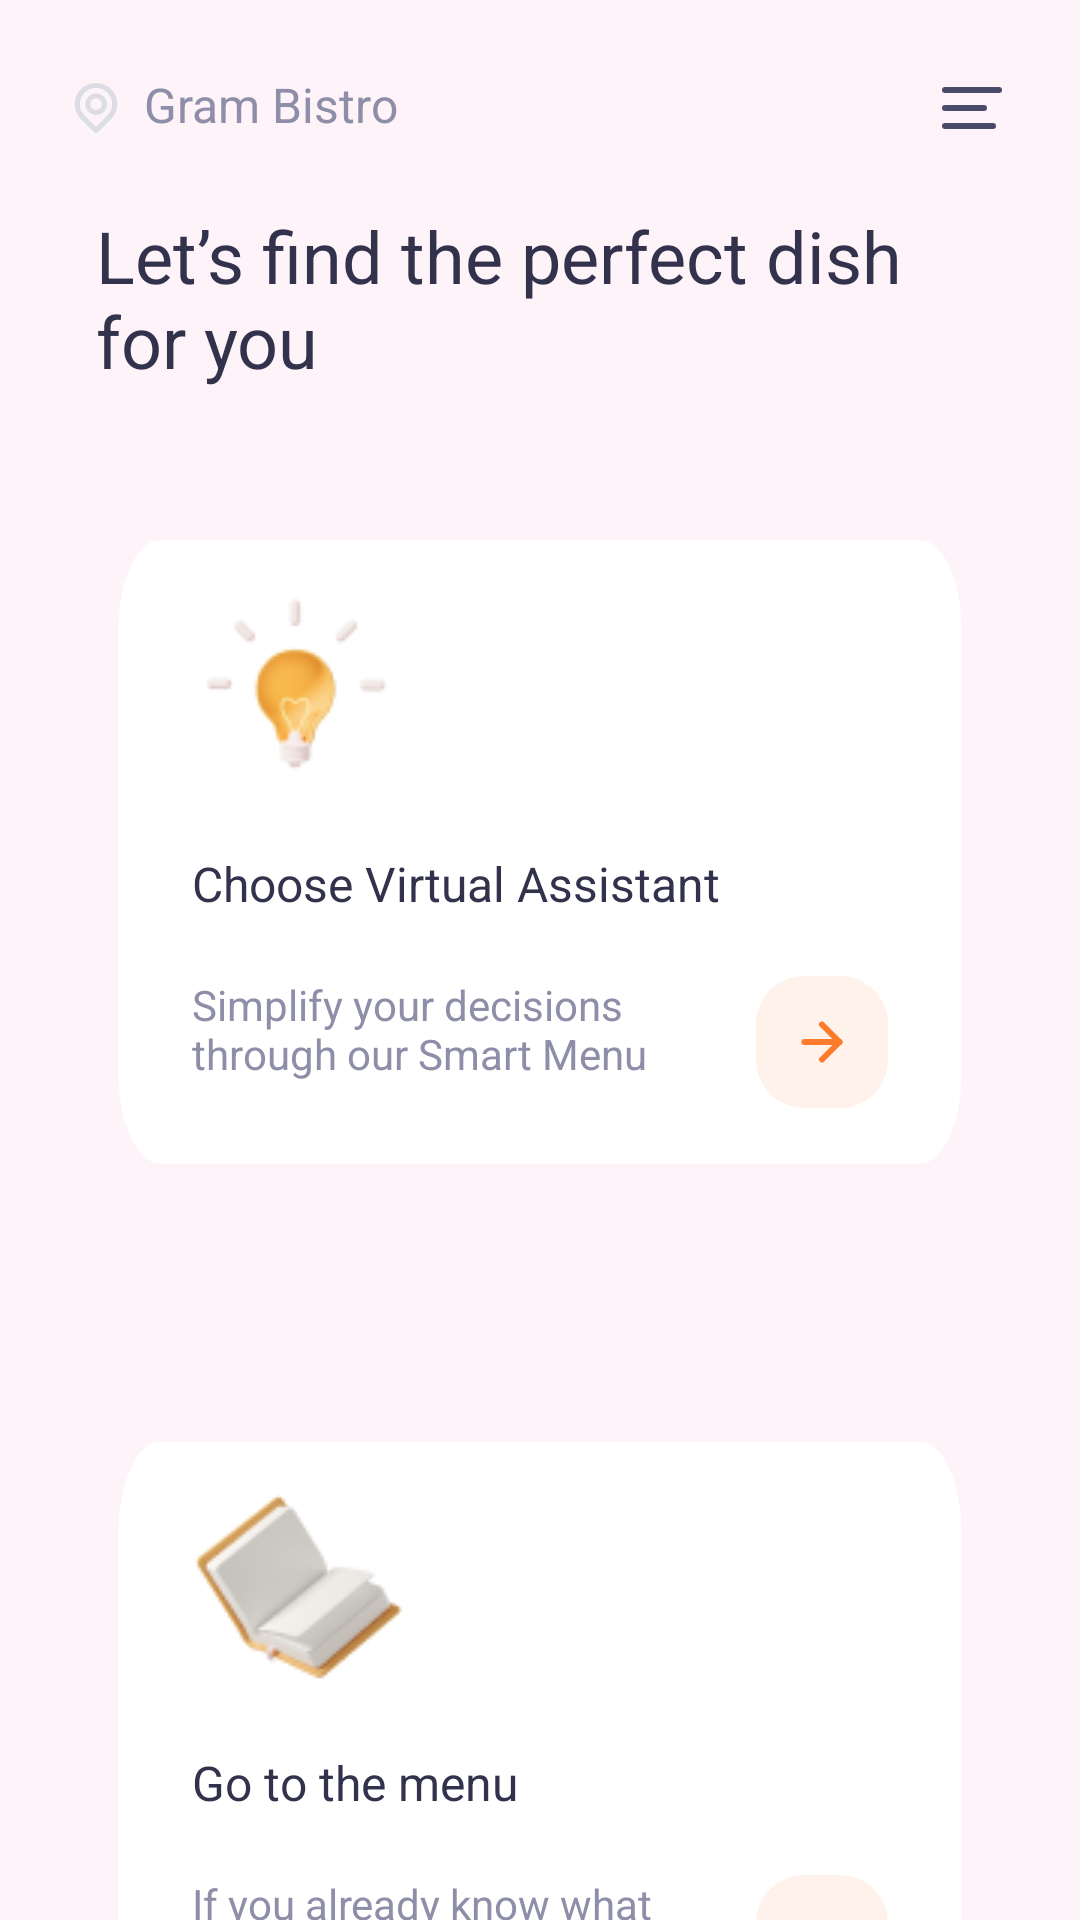

Icon click points for this 1080x1920 phone screenshot, format point (x, y):
book: point (298, 1587)
lamp: point (296, 685)
loc: point (96, 108)
toggle: point (972, 108)
